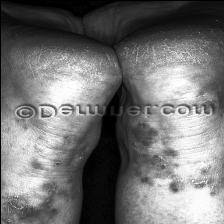Toxin: (0, 181, 60, 224), (192, 156, 224, 197), (129, 119, 159, 146)
